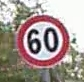limite 60: (14, 12, 70, 68)
